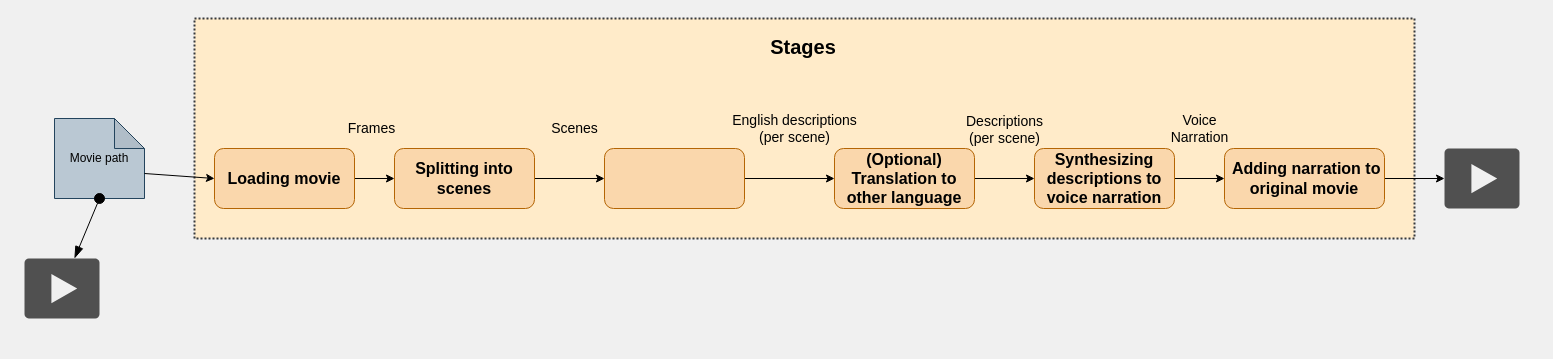
The diagram is 1553 pixels wide and 359 high, and some of its shapes have lost their labels. The shapes that lost their labels are listed below. From the top down, each one's centre as x and y in pixels, then its label:
At [674,178]: "Generating description for every scene".
At [1481,178]: "Processed movie with narration".
At [61,288]: "Original movie".
